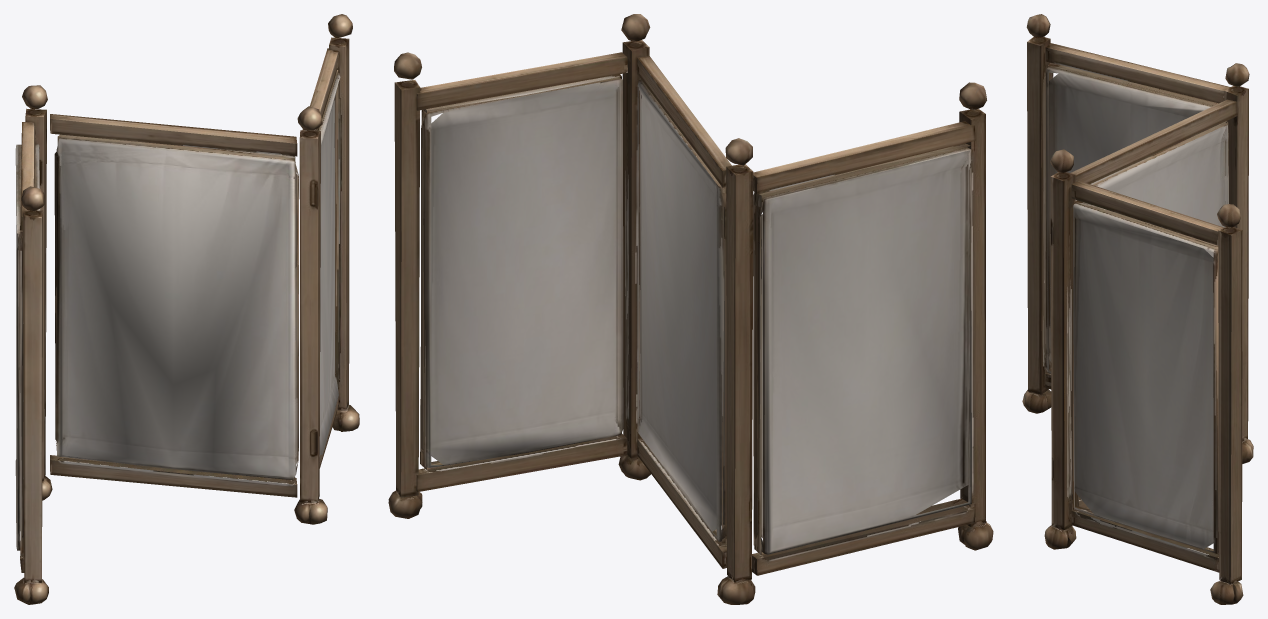
File: act1_extras_v1_linen_screen.glb
3 views of the same model, side by side, from view 1: azimuth 30°, elevation 25°; view 2: azimuth 150°, elevation 25°; view 3: azimuth 270°, elevation 25° (orthographic). The views are drawn at different scales.
Visible parts, largest first — view 1: A19_5_linen_screen; view 2: A19_5_linen_screen; view 3: A19_5_linen_screen.
Part boxes in pixels (x1=…): A19_5_linen_screen: x1=14, y1=14, x2=359, y2=604; A19_5_linen_screen: x1=388, y1=14, x2=993, y2=604; A19_5_linen_screen: x1=1022, y1=14, x2=1253, y2=604.
Size of the model in its own units: 0.999 by 0.9009 by 0.4761.
Materials: 1 (1 with a texture image).
